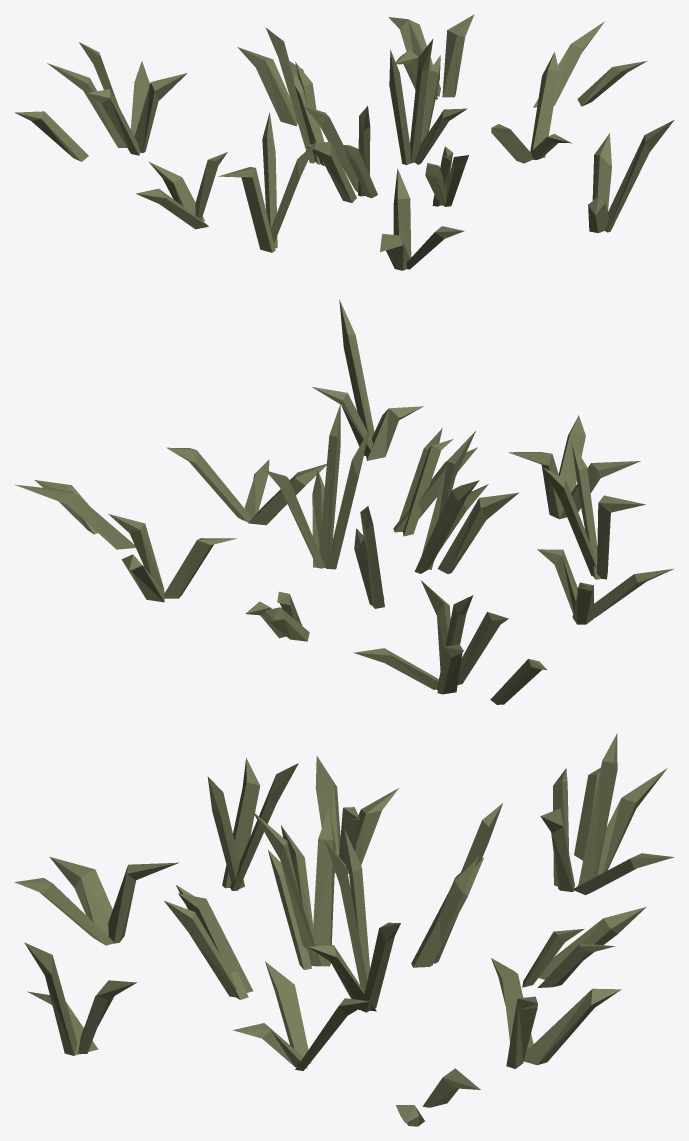
Rendered from SM_Gerneric_Grass_Patch_01.fbx.
3 renders of one model, top to bottom at view 1: azimuth 30°, elevation 25°; view 2: azimuth 150°, elevation 25°; view 3: azimuth 270°, elevation 25°, orthographic. The views are drawn at different scales.
Visible parts, largest first — view 1: SM_Gerneric_Grass_Patch_01; view 2: SM_Gerneric_Grass_Patch_01; view 3: SM_Gerneric_Grass_Patch_01.
Boxes of the visible parts, x1,y1,x2,y2 form: SM_Gerneric_Grass_Patch_01: (15,14,674,270); SM_Gerneric_Grass_Patch_01: (15,299,674,704); SM_Gerneric_Grass_Patch_01: (14,733,674,1126).
Size of the model in its own units: 309 by 72.56 by 257.
